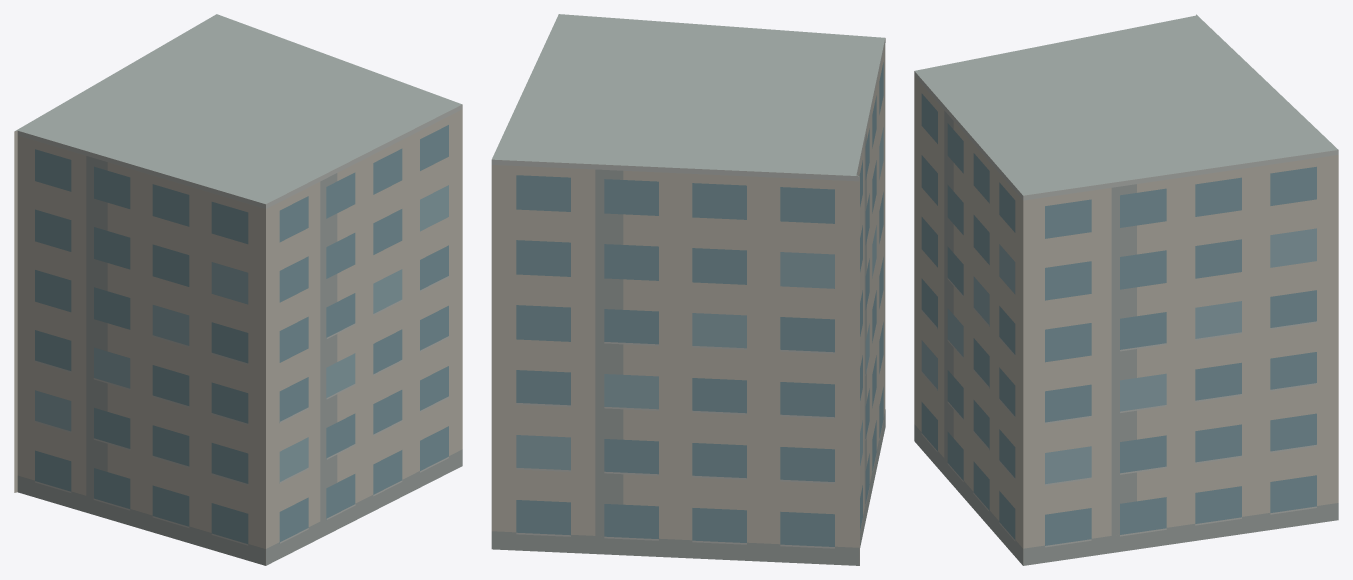
The model's file is survey-upis-32835911.glb.
The picture shows the model from 3 angles, left to right: view 1: azimuth 30°, elevation 25°; view 2: azimuth 150°, elevation 25°; view 3: azimuth 270°, elevation 25°; orthographic projection. The views are drawn at different scales.
Parts seen in each view (by area): view 1: survey-upis-32835911.tmp; view 2: survey-upis-32835911.tmp; view 3: survey-upis-32835911.tmp.
Part boxes in pixels (bbox=[...]): survey-upis-32835911.tmp: bbox=[14, 14, 462, 565]; survey-upis-32835911.tmp: bbox=[491, 14, 885, 565]; survey-upis-32835911.tmp: bbox=[914, 14, 1338, 565].
Size of the model in its own units: 19.27 by 18.3 by 19.02.
